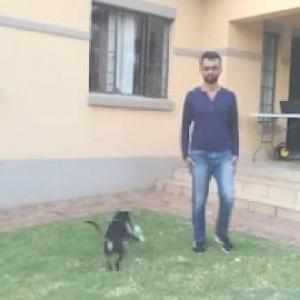follow: (178, 51, 243, 253)
